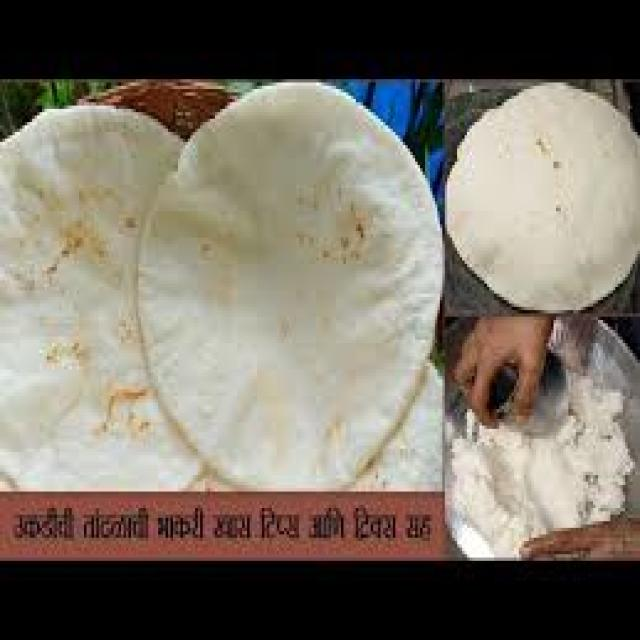RICE BHAKRI: (138, 82, 442, 485), (0, 109, 198, 485), (445, 82, 638, 307)
